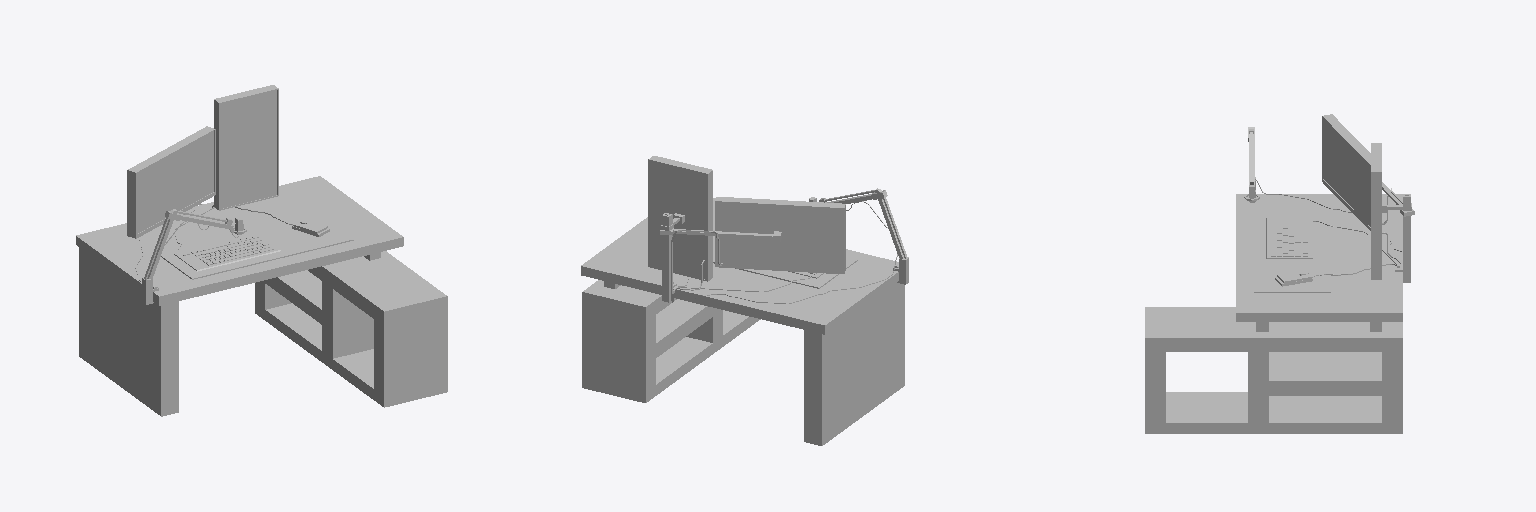
3 views of the same model, side by side, from view 1: azimuth 30°, elevation 25°; view 2: azimuth 150°, elevation 25°; view 3: azimuth 270°, elevation 25° (orthographic).
Parts seen in each view (by area): view 1: cube; view 2: cube; view 3: cube.
Part boxes in pixels (left/top/right/bottom): cube: left=76, top=85, right=447, bottom=416; cube: left=581, top=156, right=908, bottom=445; cube: left=1145, top=114, right=1414, bottom=433.
Bounding box in the file's own units: 28.13 × 25.07 × 26.15.